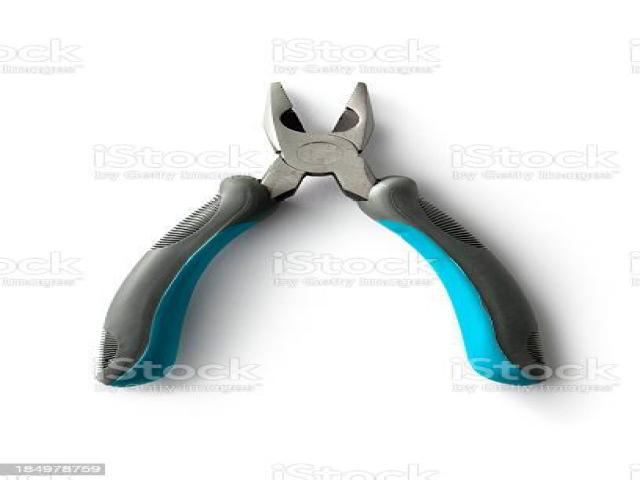Pliers: (99, 82, 551, 387)
